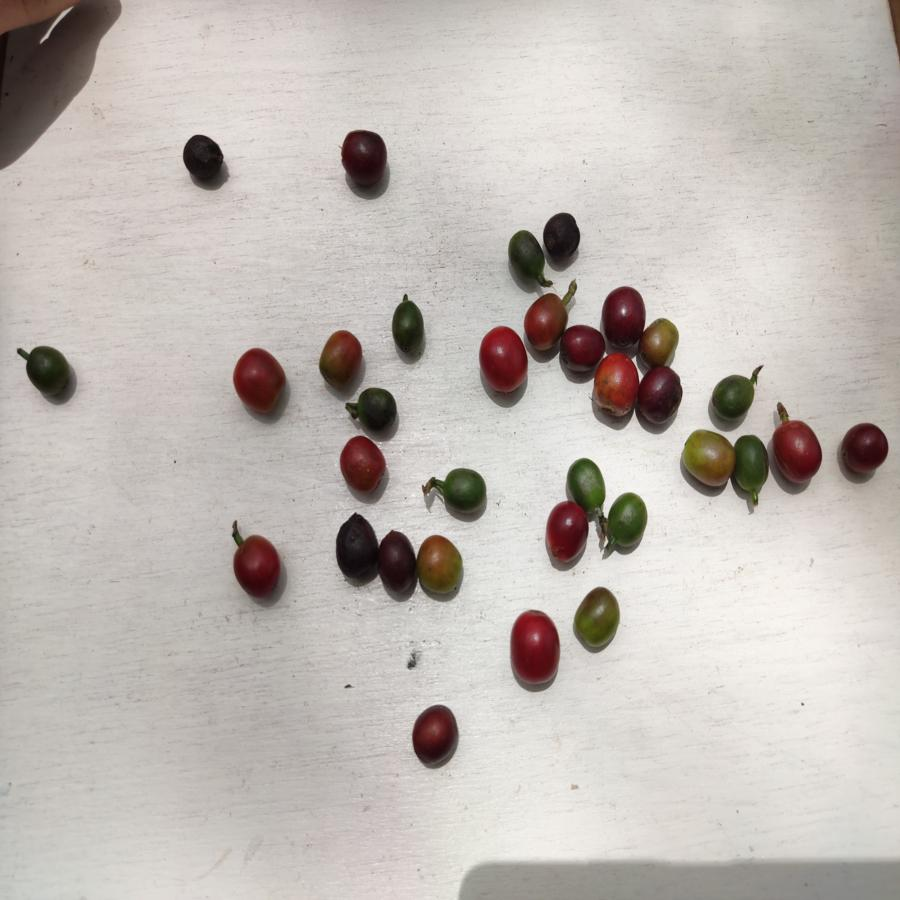Inmaduro: (604, 490, 651, 552), (21, 345, 74, 399), (439, 466, 486, 518), (733, 432, 770, 496), (354, 387, 403, 435), (709, 374, 758, 421), (504, 222, 543, 280), (565, 458, 610, 508), (391, 300, 426, 353)
Maduro: (507, 607, 565, 689), (233, 347, 289, 419), (477, 322, 527, 398), (335, 430, 393, 495), (772, 417, 826, 485), (233, 534, 285, 598), (544, 501, 591, 567), (594, 351, 636, 420), (522, 294, 555, 359)
Pinton: (572, 585, 622, 648), (680, 432, 735, 489), (416, 534, 465, 597), (318, 332, 360, 390), (641, 317, 681, 365)
Sobremaduro: (408, 704, 464, 769), (839, 421, 892, 479), (341, 129, 392, 189), (335, 514, 378, 579), (375, 529, 417, 595), (599, 286, 644, 347), (638, 366, 684, 423), (182, 133, 225, 183), (559, 323, 604, 370), (544, 210, 583, 264)
